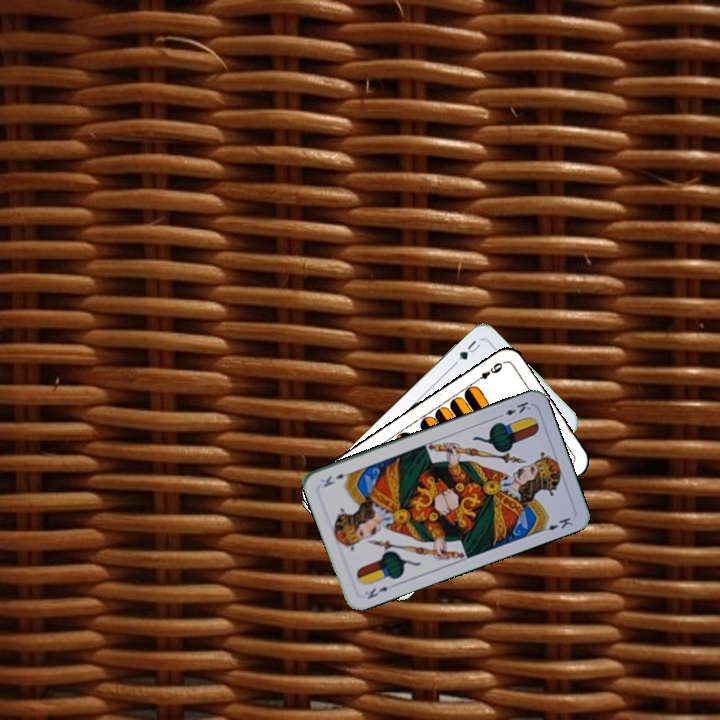E9: (470, 358, 505, 385)
EK: (493, 397, 534, 421), (363, 582, 391, 602)
GU: (450, 336, 484, 367)
